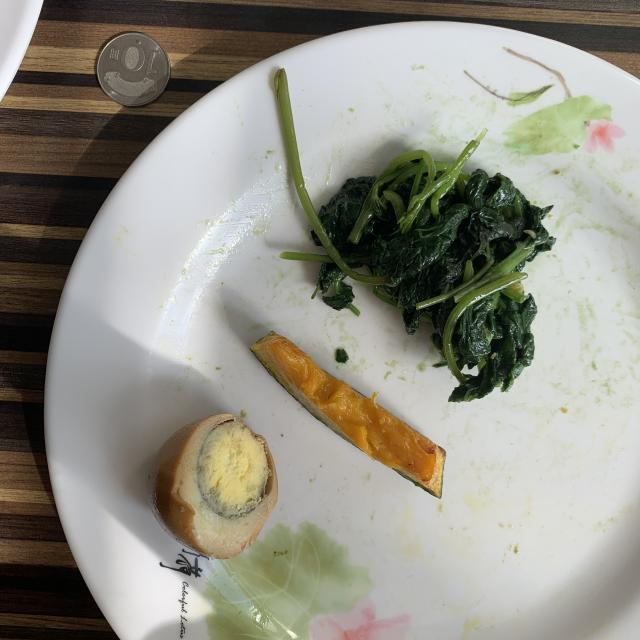coin: (96, 32, 170, 106)
pumpkin: (251, 331, 445, 498)
soy egg: (150, 414, 278, 559)
sweet potato leaves: (275, 69, 555, 401)
